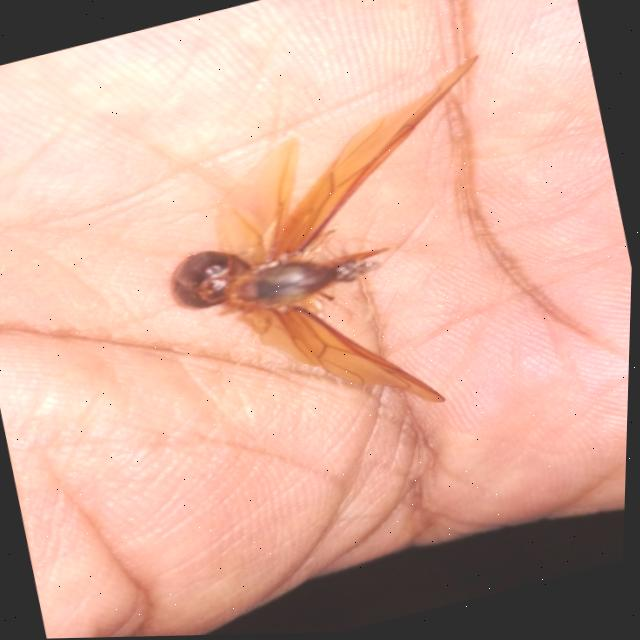Dead-Male-Alate: (130, 43, 569, 464)
